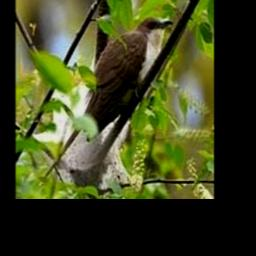Cuckoo: (46, 17, 173, 176)
